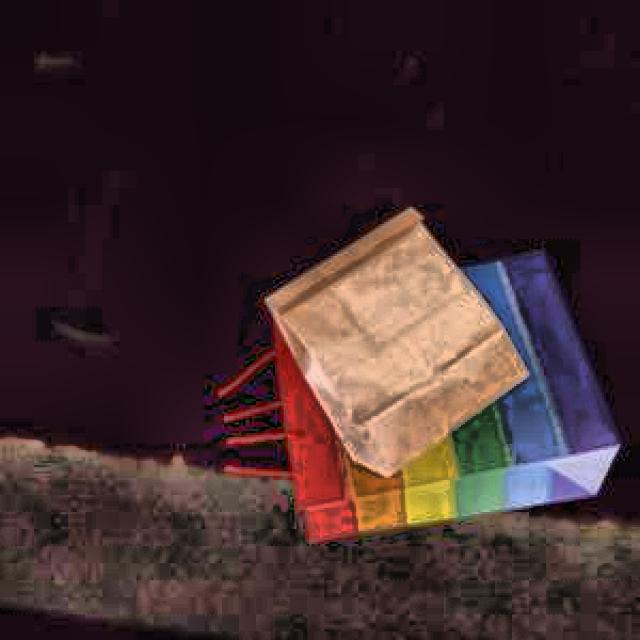Paper-bag: (190, 245, 618, 544), (262, 202, 538, 480)
